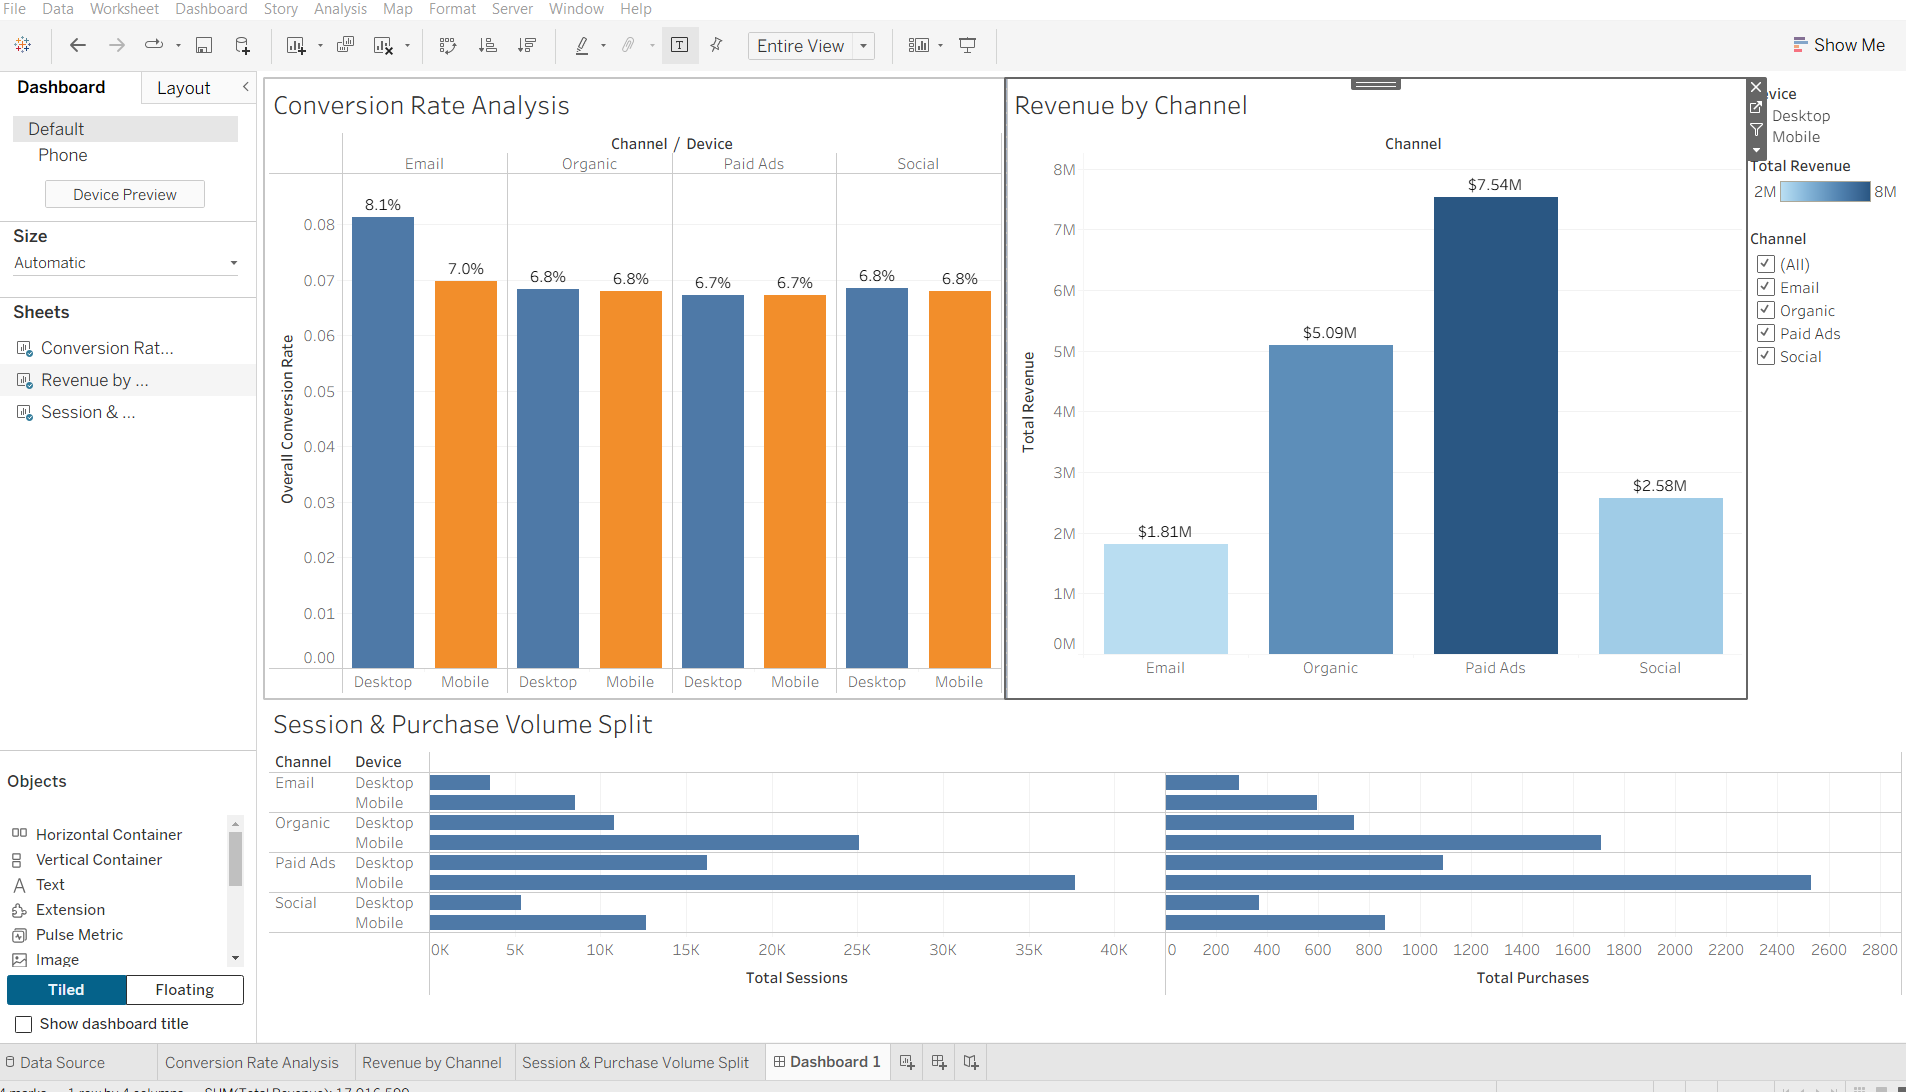

The page's visual inventory and layout, read from the dashboard file:
{"tool":"tableau","page":{"name":"Marketing Performance Overview","canvas":[1000,1000],"units":"permille","ordinal":0},"visuals":[{"type":"text","box":[4.8,8.2,990.3,52.5]},{"type":"text","box":[4.8,60.8,990.3,62.8]},{"type":"worksheet","title":"Conversion Rate Analysis","mark":"Automatic","rows":["overall_conversion_rate"],"cols":["channel","device"],"box":[4.8,123.6,446.9,522.1]},{"type":"worksheet","title":"Revenue by Channel","mark":"Automatic","rows":["total_revenue"],"cols":["channel"],"box":[451.7,123.6,446.9,522.1]},{"type":"legend","title":"Conversion Rate Analysis","param":"[federated.1gq80uf1cwy9g312qe8aq1lcuqwg].[none:device:nk]","box":[898.6,123.6,96.6,74.2]},{"type":"legend","title":"Revenue by Channel","param":"[federated.1gq80uf1cwy9g312qe8aq1lcuqwg].[sum:total_revenue:qk]","box":[898.6,197.7,96.6,75.2]},{"type":"filter","title":"Revenue by Channel","param":"[federated.1gq80uf1cwy9g312qe8aq1lcuqwg].[none:channel:nk]","box":[898.6,272.9,96.6,155.5]},{"type":"worksheet","title":"Session & Purchase Volume Split","mark":"Automatic","rows":["channel","device"],"cols":["total_sessions","total_purchases"],"box":[4.8,645.7,990.3,346]}]}

Visuals, with their boxes on the dashboard's canvas, which has no fixed pixel size, in thousandths of its width and height (x1, y1, x2, y2). These are canvas units, not pixel positions in the 1906x1092 screenshot, which may show the page scaled, cropped or inside an application window:
text: BBox(5, 8, 995, 61)
text: BBox(5, 61, 995, 124)
"Conversion Rate Analysis" worksheet: BBox(5, 124, 452, 646)
"Revenue by Channel" worksheet: BBox(452, 124, 899, 646)
"Conversion Rate Analysis" legend: BBox(899, 124, 995, 198)
"Revenue by Channel" legend: BBox(899, 198, 995, 273)
"Revenue by Channel" filter: BBox(899, 273, 995, 428)
"Session & Purchase Volume Split" worksheet: BBox(5, 646, 995, 992)
